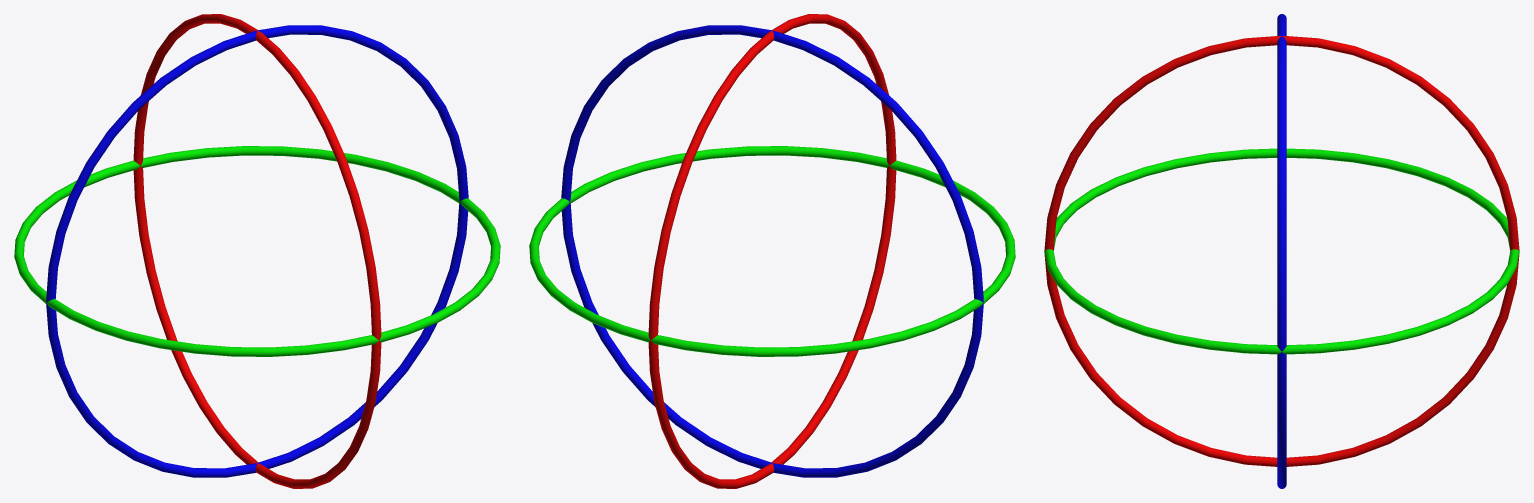
File: AxisBall.fbx
3 views of the same model, side by side, from view 1: azimuth 30°, elevation 25°; view 2: azimuth 150°, elevation 25°; view 3: azimuth 270°, elevation 25° (orthographic). The views are drawn at different scales.
Parts seen in each view (by area): view 1: pTorus4; view 2: pTorus4; view 3: pTorus4.
Part boxes in pixels (x1,y1,x2,y2): pTorus4: (14,14,500,488); pTorus4: (529,14,1015,488); pTorus4: (1044,14,1519,488).
Size of the model in its own units: 45.54 by 45.54 by 45.54.
